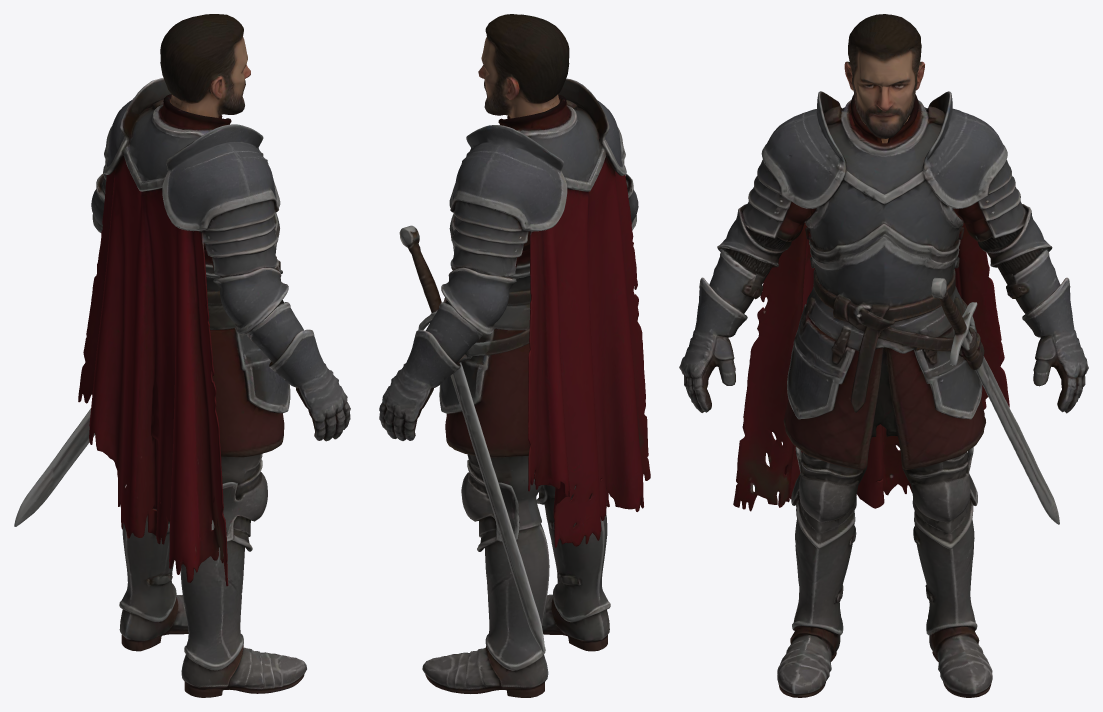
File: silver-knight-original.glb
3 renders of one model, left to right at view 1: azimuth 30°, elevation 25°; view 2: azimuth 150°, elevation 25°; view 3: azimuth 270°, elevation 25°, orthographic. The views are drawn at different scales.
Parts seen in each view (by area): view 1: tripo_node_5613a3ab-16f8-4e1e-8267-915a1b764745; view 2: tripo_node_5613a3ab-16f8-4e1e-8267-915a1b764745; view 3: tripo_node_5613a3ab-16f8-4e1e-8267-915a1b764745.
Boxes of the visible parts, x1,y1,x2,y2 form: tripo_node_5613a3ab-16f8-4e1e-8267-915a1b764745: (14,14,350,697); tripo_node_5613a3ab-16f8-4e1e-8267-915a1b764745: (379,14,650,697); tripo_node_5613a3ab-16f8-4e1e-8267-915a1b764745: (679,14,1088,697).
Size of the model in its own units: 0.3315 by 1 by 0.5676.
Materials: 1 (1 with a texture image).
